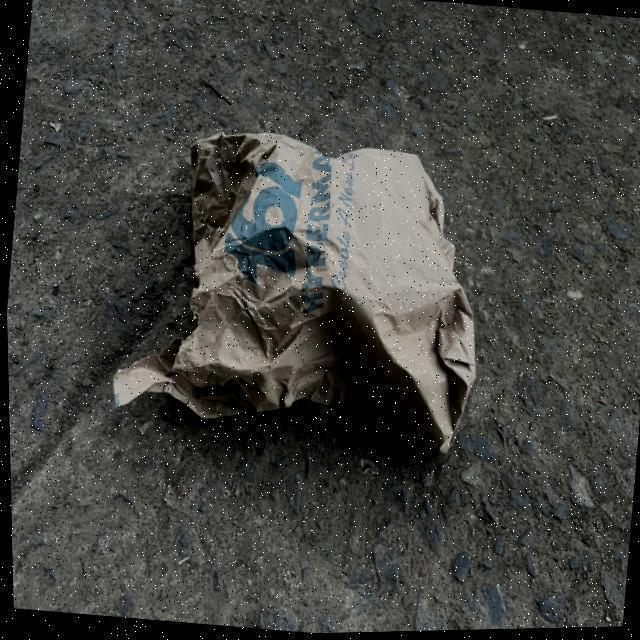Paper_Bag: (104, 120, 496, 475)
